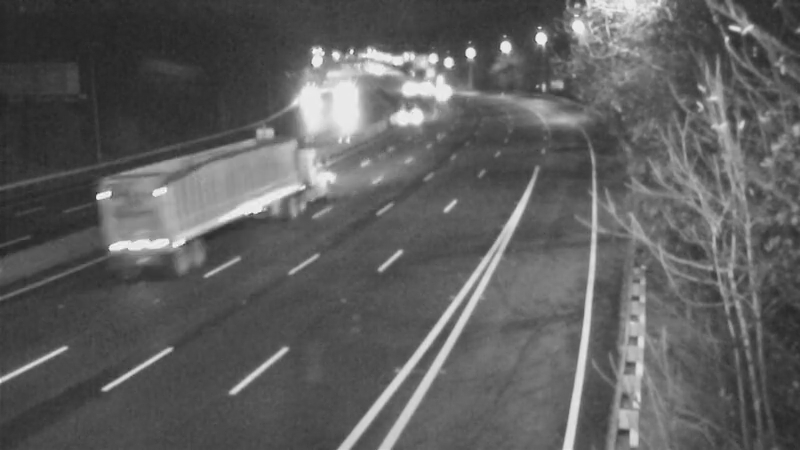vehicle: (181, 146, 261, 226), (419, 68, 469, 118), (380, 62, 430, 112), (376, 90, 426, 140), (317, 74, 367, 124)
